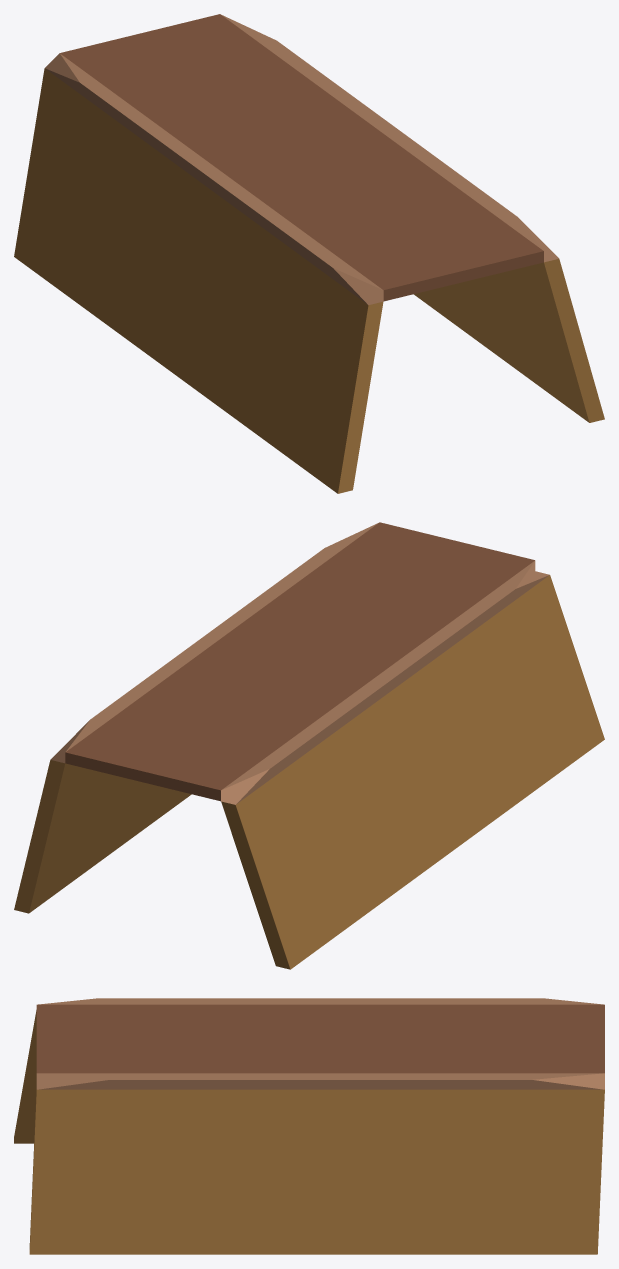
Rendered from Tunel3.fbx.
3 renders of one model, top to bottom at view 1: azimuth 30°, elevation 25°; view 2: azimuth 150°, elevation 25°; view 3: azimuth 270°, elevation 25°, orthographic. The views are drawn at different scales.
Visible parts, largest first — view 1: Cube; view 2: Cube; view 3: Cube.
Part boxes in pixels (<box>): Cube: <box>14,14,604,493</box>; Cube: <box>14,522,604,969</box>; Cube: <box>14,998,604,1254</box>.
Size of the model in its own units: 348 by 217 by 737.
